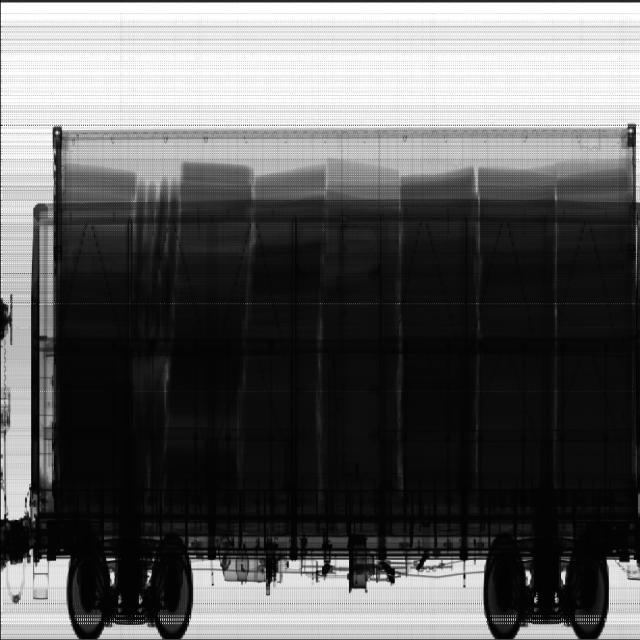fabrics: (77, 158, 640, 490)
